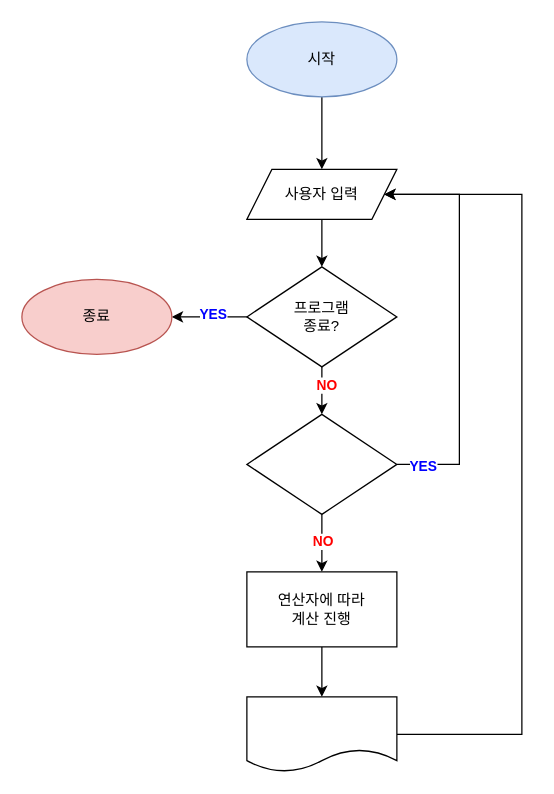
This 554x794 diagram has some shape labels left out. Each missing label, with the box of its shape:
결과 출력: (246, 696, 397, 772)
커맨드인지?: (246, 413, 397, 514)
